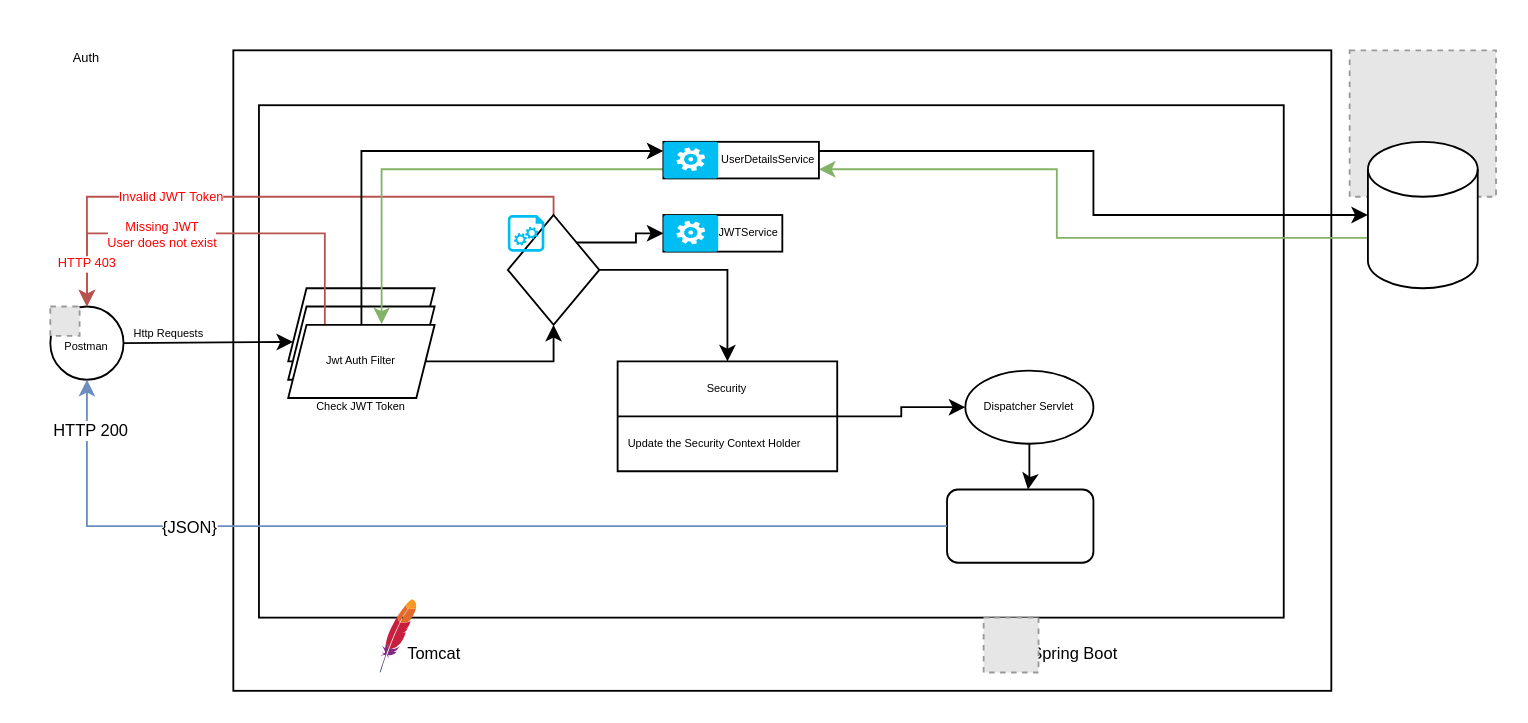
Image size: 1528x723. Some labels were removed from this diagram. Grey dashed boxes stand in for pictures. The shapes that lost their labels are listed below. From the top down, each one's box as (x1, y1, x2, y2) in pixels, then its label:
(1366, 140, 1478, 288): MYSQL
(506, 213, 599, 325): Validate JWT
(945, 488, 1093, 563): Controller
